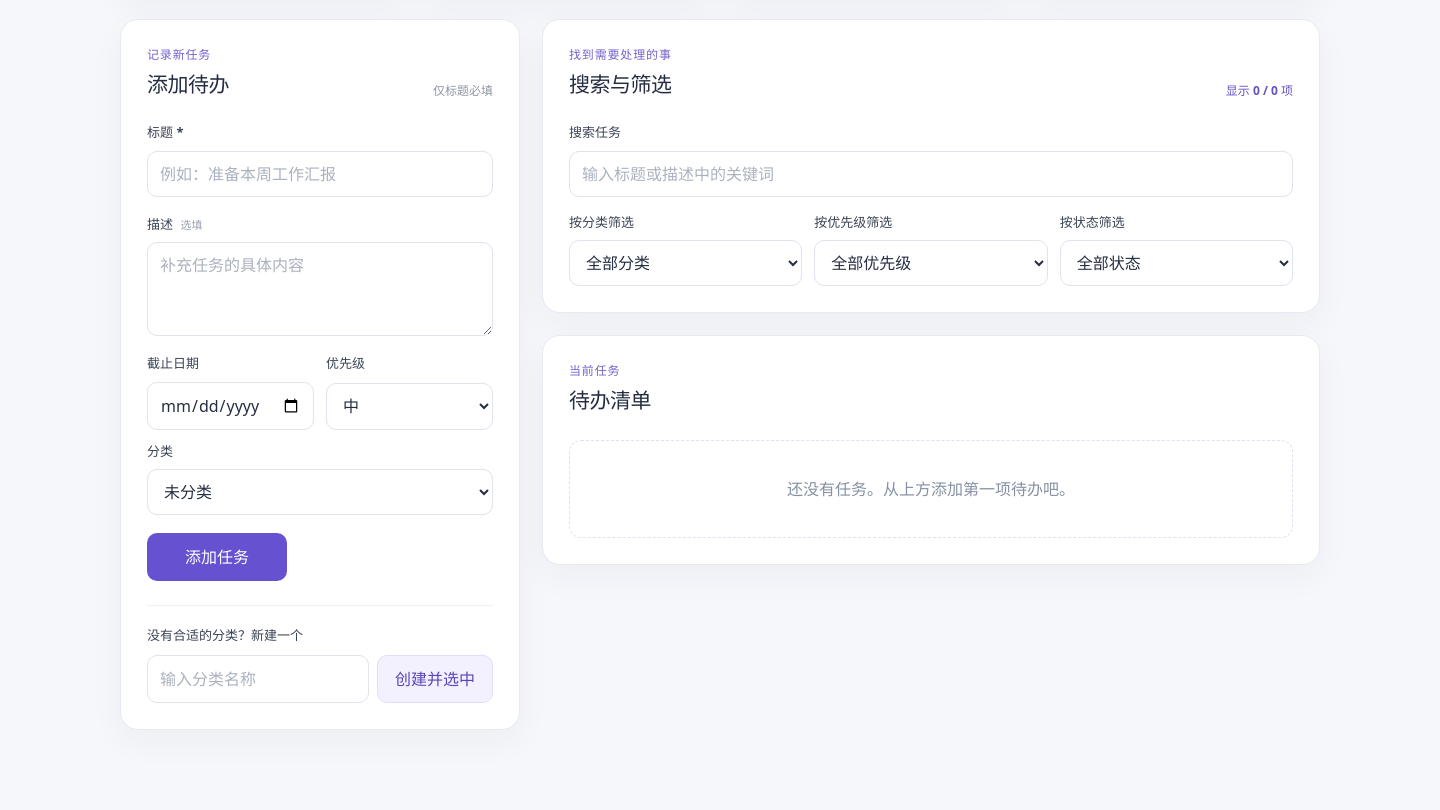
Test case: 新增任务与筛选界面 › 显示字段错误，成功添加包含描述、日期、优先级和分类的任务
(page scrolled)
Click the button "添加任务" at (217,557), box [147, 533, 287, 581]
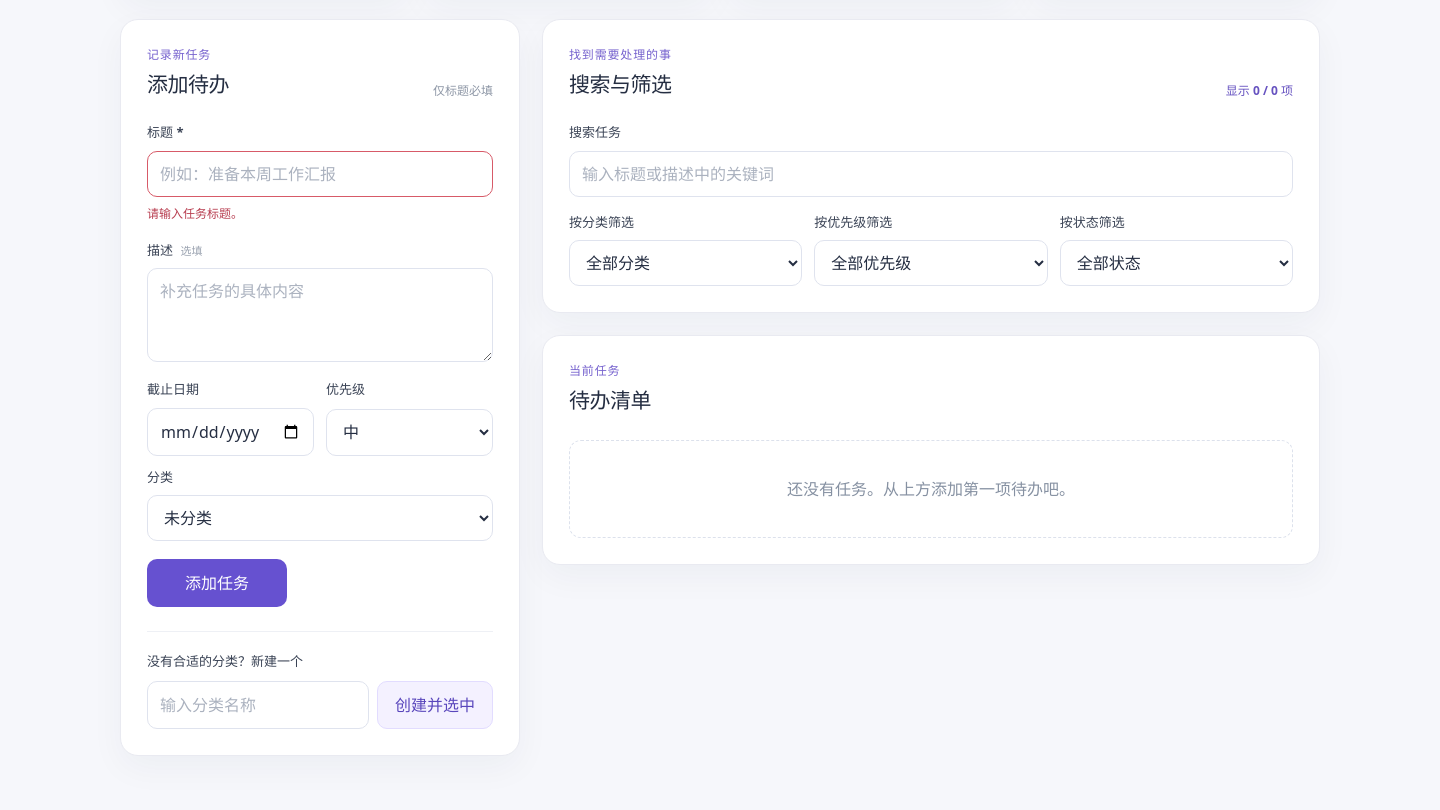
Expected: the text "请输入任务标题。" is shown, [147, 205, 243, 222]
Type "工作" into the field labelled "没有合适的分类？新建一个" at (258,705), box [147, 681, 369, 729]
Click the button "创建并选中" at (435,705), box [377, 681, 493, 729]
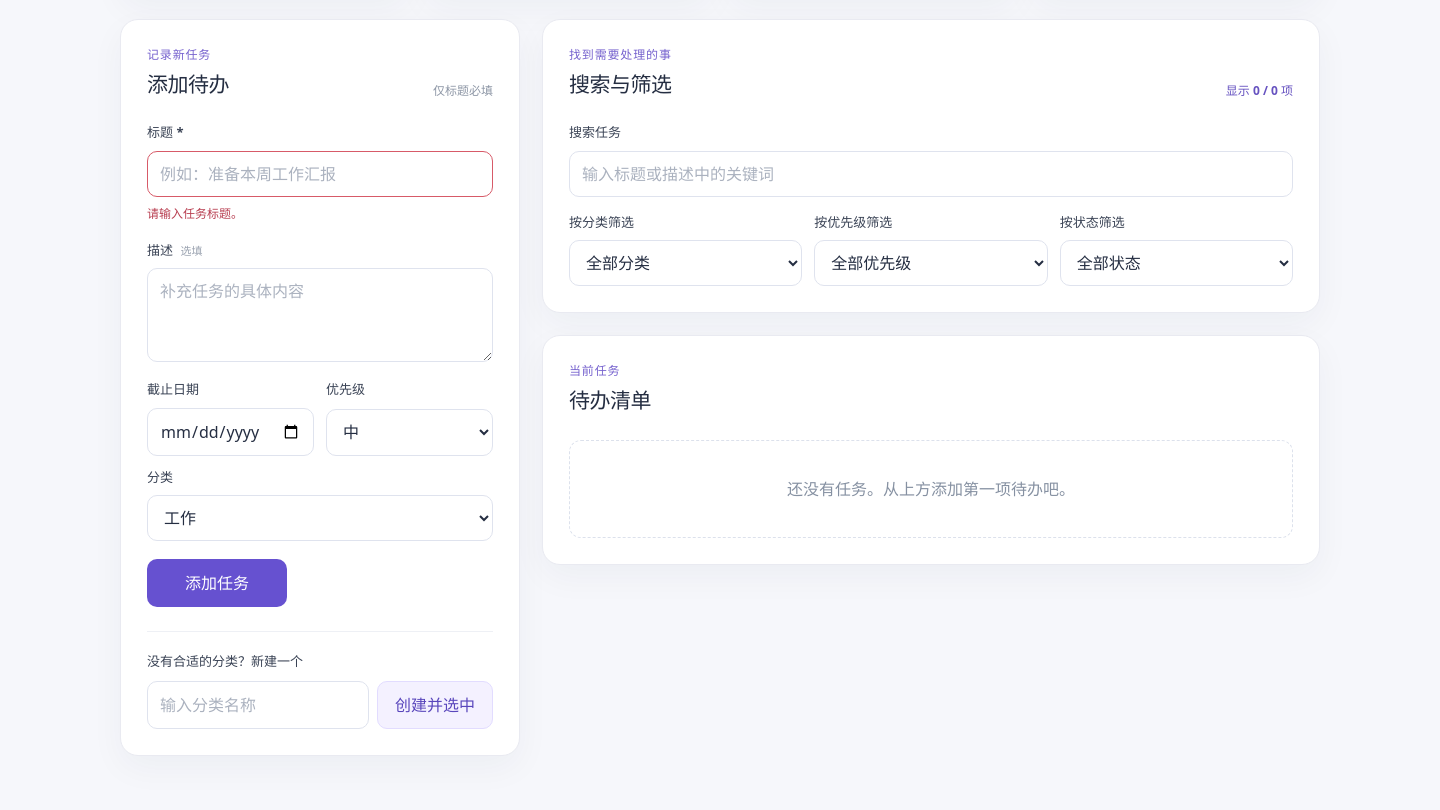
Type "  写周报  " into the field labelled "标题 *" at (320,174), box [147, 151, 493, 197]
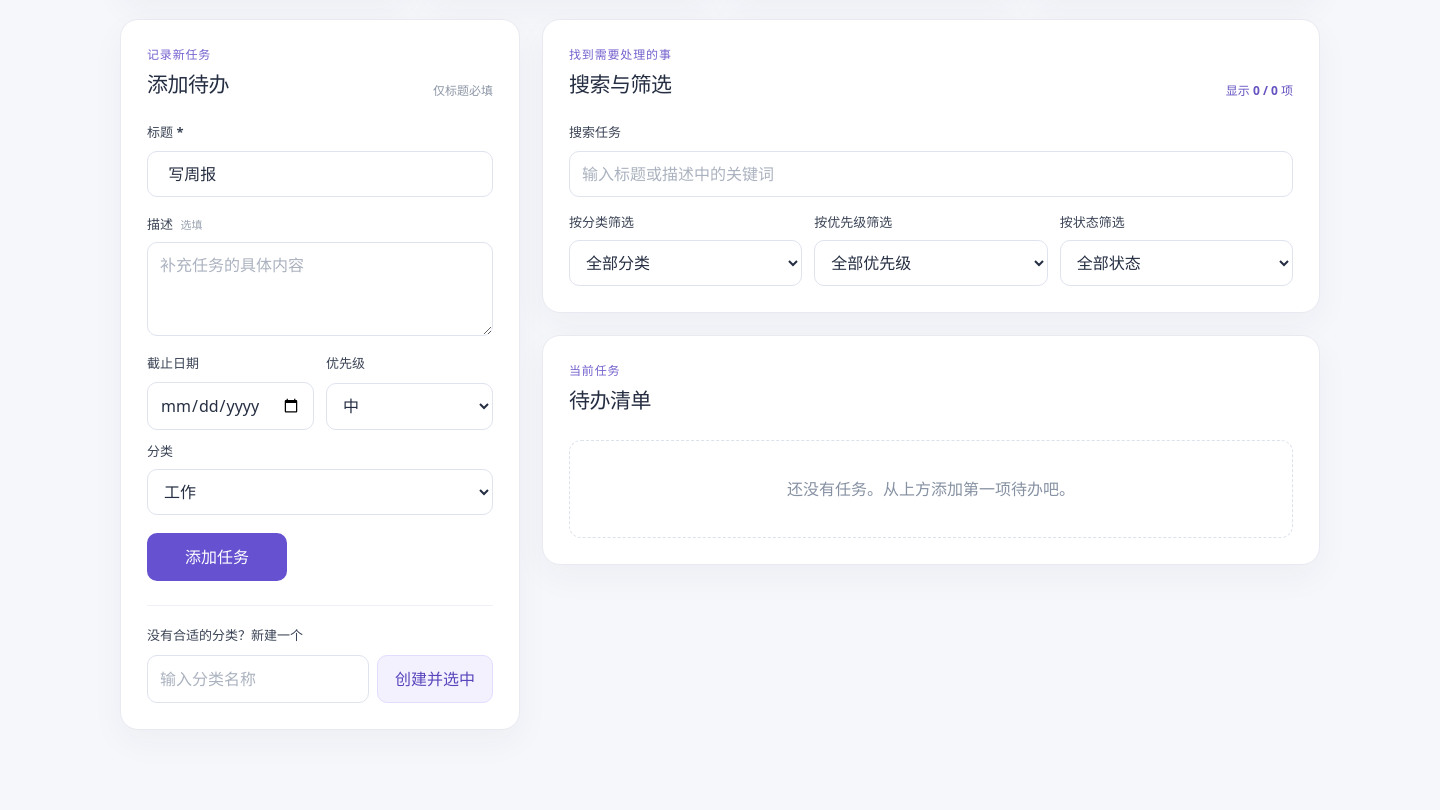
Type "整理本周进展" into the text box labelled "描述 选填" at (320,289), box [147, 242, 493, 336]
Type "2026-10-05" into the date field labelled "截止日期" at (230,406), box [147, 382, 314, 430]
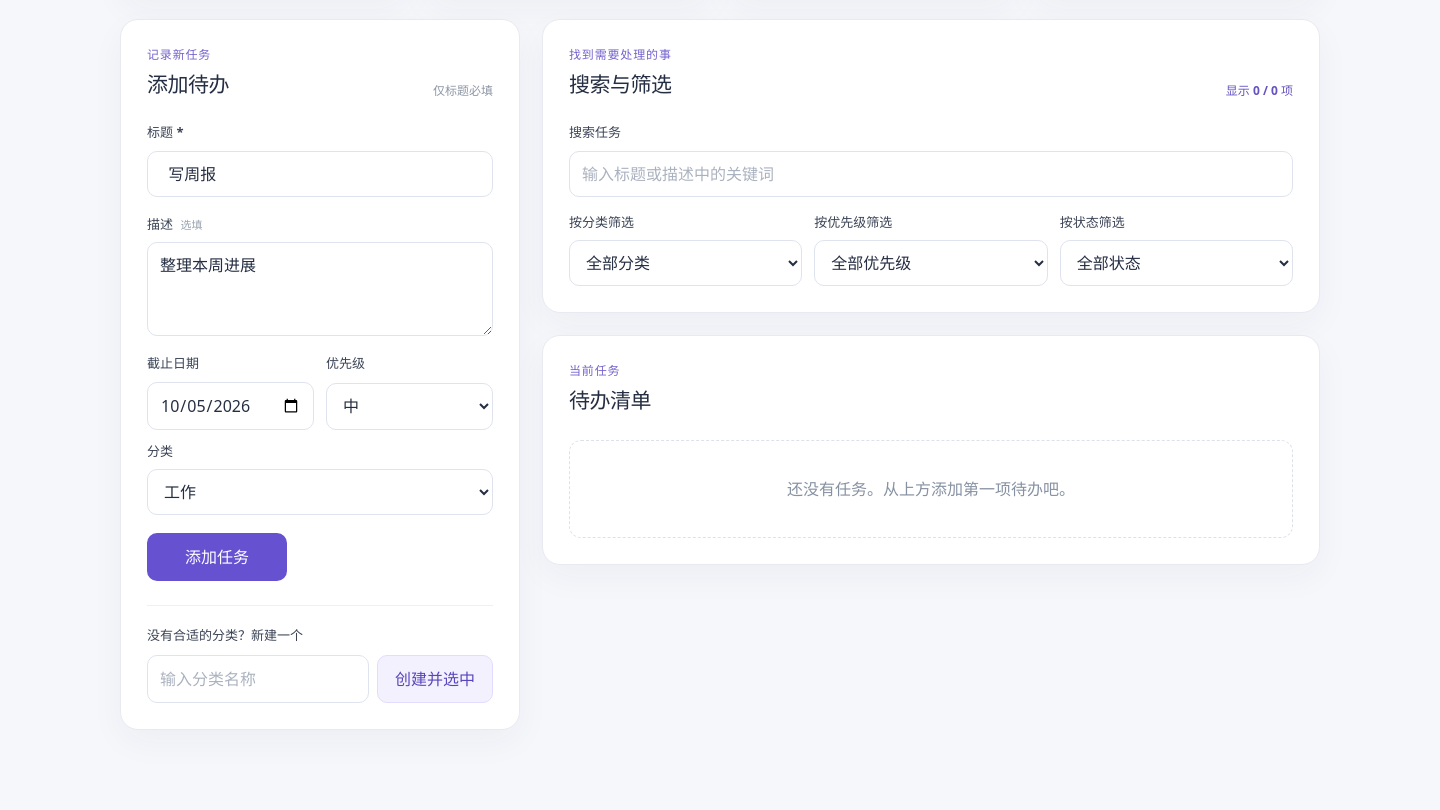
Select "高" in the dropdown labelled "优先级" at (410,406), box [326, 383, 493, 430]
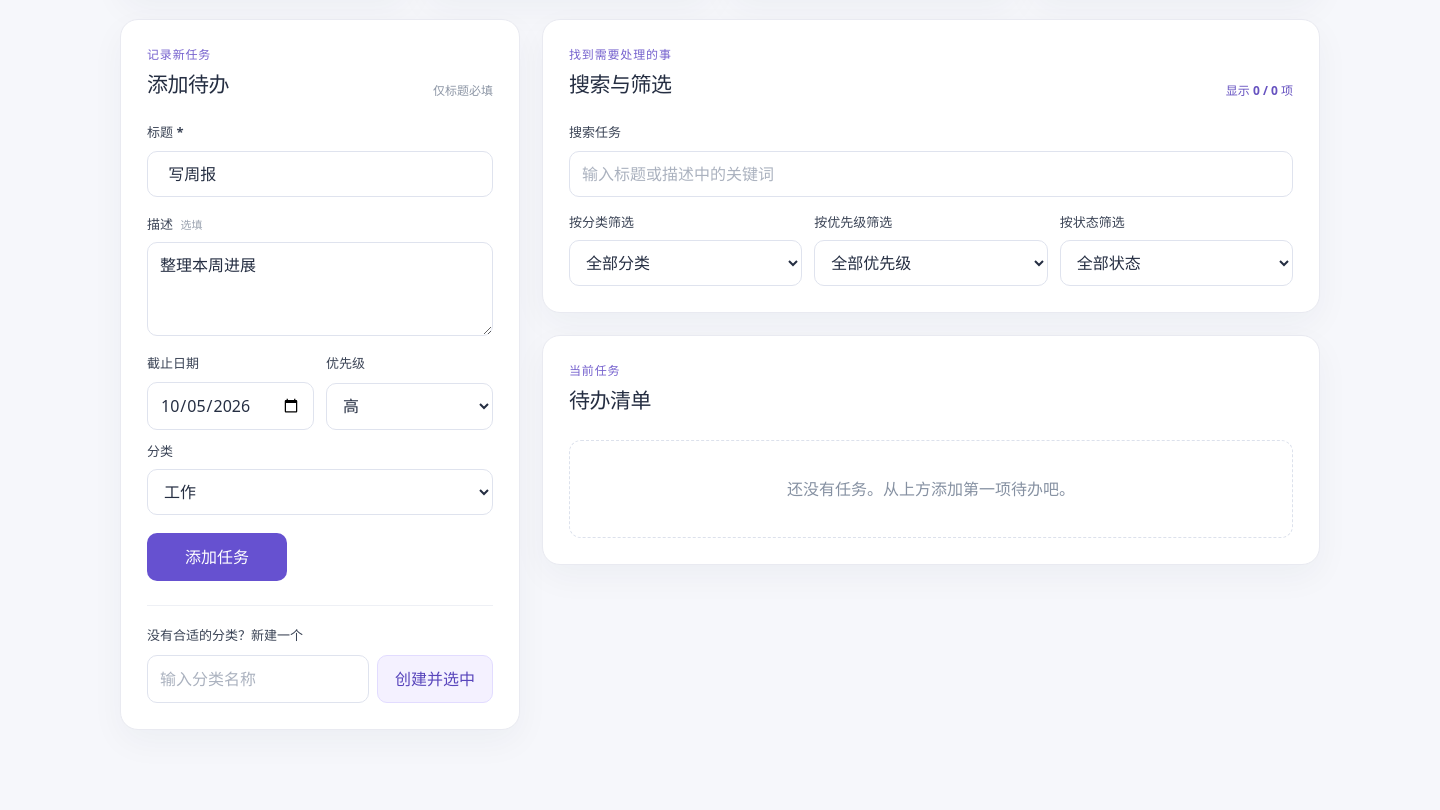
Click the button "添加任务" at (217,557), box [147, 533, 287, 581]
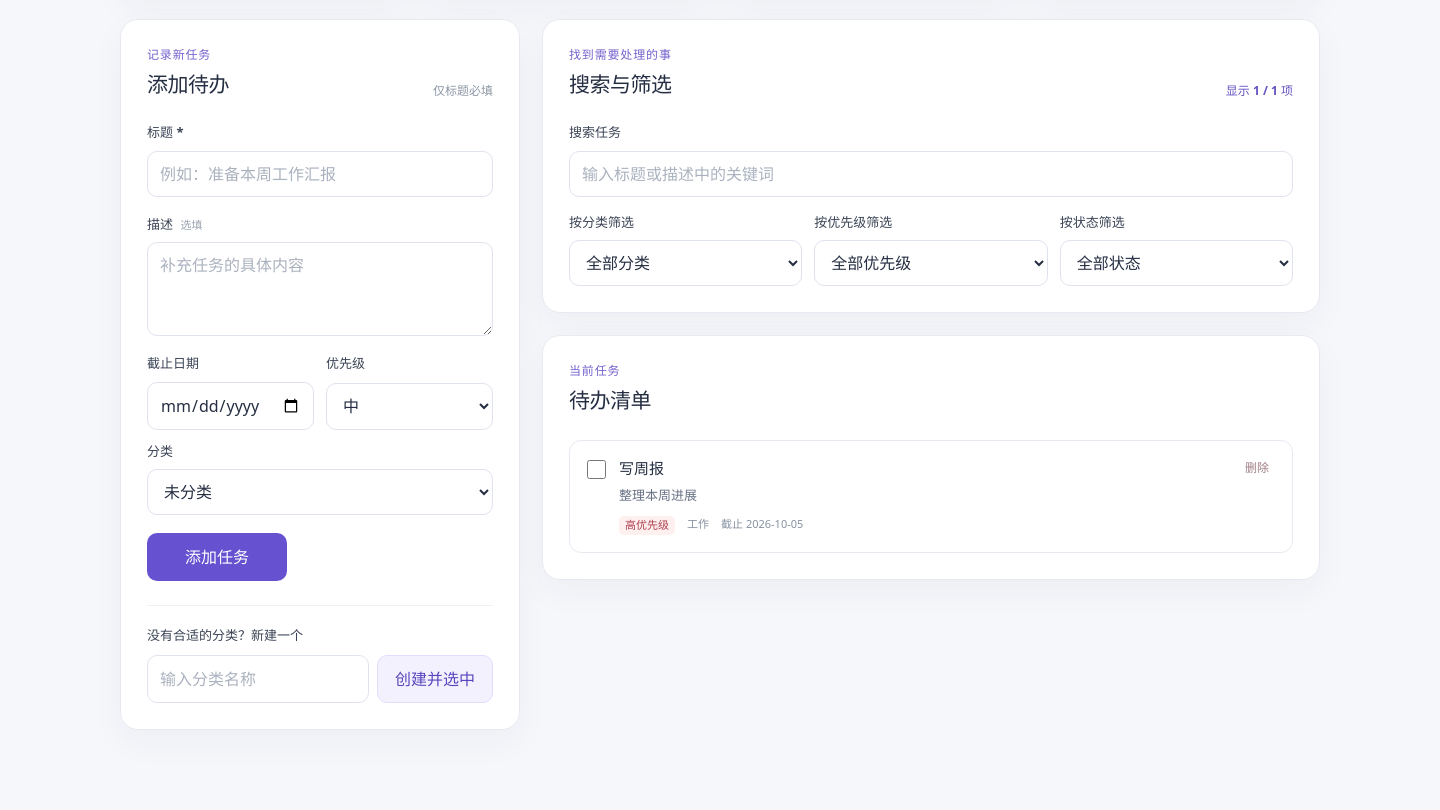
Expected: the heading "写周报" is shown, [619, 458, 664, 478]
Expected: the field labelled "标题 *" is empty, [147, 151, 493, 197]
